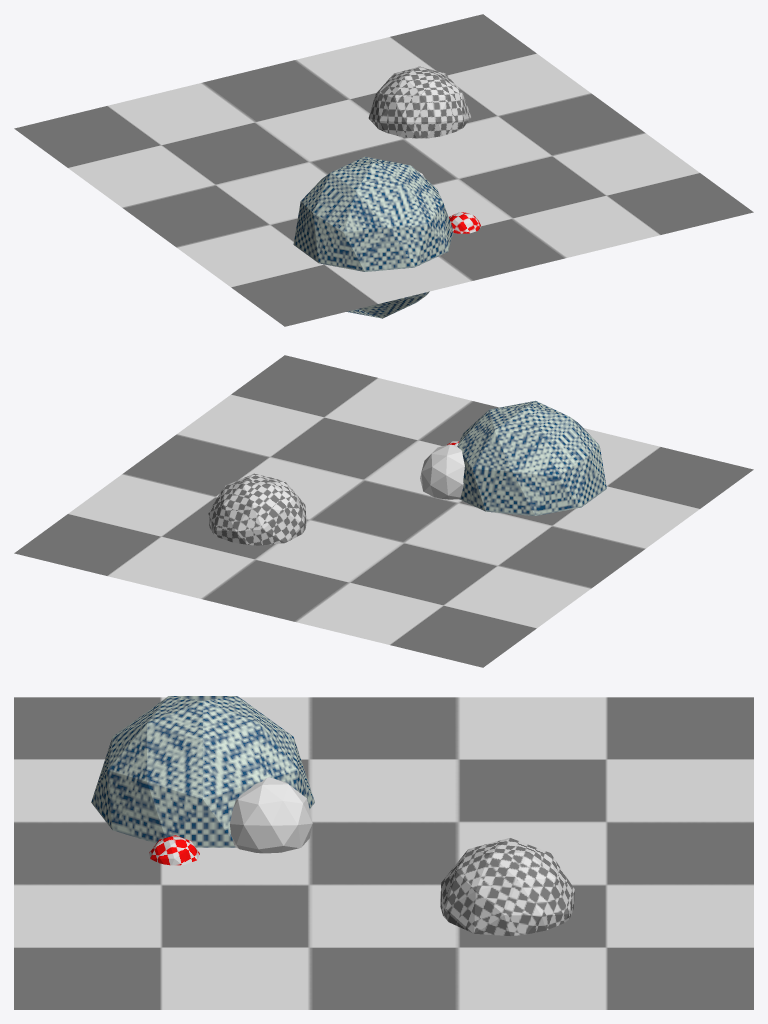
The model's file is another_test_room.001.glb.
3 renders of one model, top to bottom at view 1: azimuth 30°, elevation 25°; view 2: azimuth 150°, elevation 25°; view 3: azimuth 270°, elevation 25°, orthographic. The views are drawn at different scales.
Visible parts, largest first — view 1: Plane, Icosphere.001, Icosphere, Icosphere.003; view 2: Plane, Icosphere.001, Icosphere, Icosphere.002; view 3: Plane, Icosphere.001, Icosphere, Icosphere.002, Icosphere.003.
Part boxes in pixels (bbox=[...]): Plane: bbox=[14, 14, 753, 326]; Icosphere.001: bbox=[293, 156, 453, 318]; Icosphere: bbox=[368, 66, 471, 138]; Icosphere.003: bbox=[449, 212, 480, 233]; Plane: bbox=[14, 355, 753, 667]; Icosphere.001: bbox=[457, 400, 606, 515]; Icosphere: bbox=[208, 473, 306, 545]; Icosphere.002: bbox=[420, 444, 464, 499]; Plane: bbox=[14, 697, 753, 1009]; Icosphere.001: bbox=[91, 696, 314, 847]; Icosphere: bbox=[440, 838, 574, 935]; Icosphere.002: bbox=[230, 777, 312, 853]; Icosphere.003: bbox=[149, 835, 199, 865].
Bounding box in the file's own units: 20 × 6.05 × 20.
4 materials, 4 textured.
